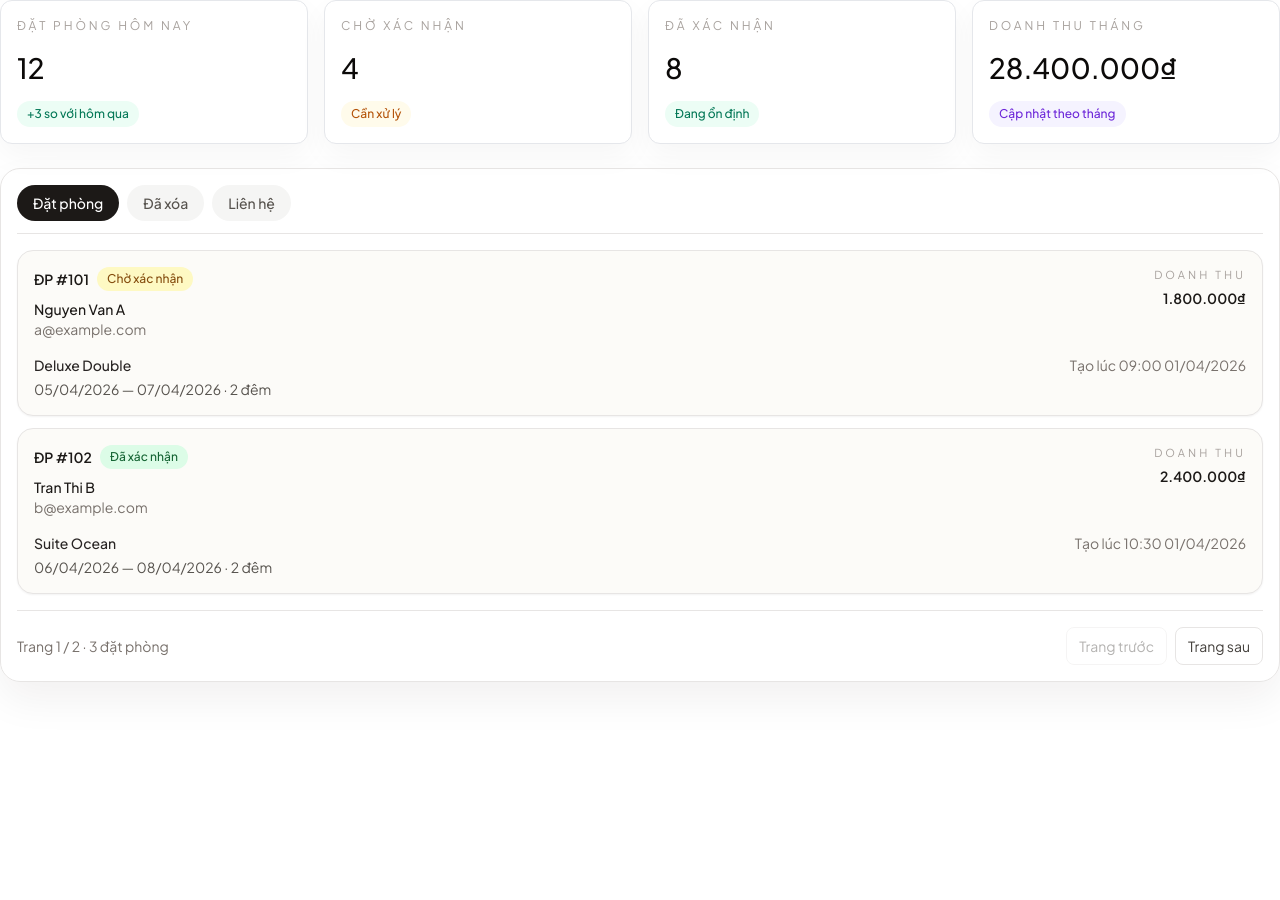
Test: AdminDashboard › supports booking pagination in the recent bookings tab
Expected: the link "ĐP #101" is shown, 34,269 -> 89,289
Click the button "Trang sau" at coordinates (1219, 646), box 1175,627 -> 1263,665
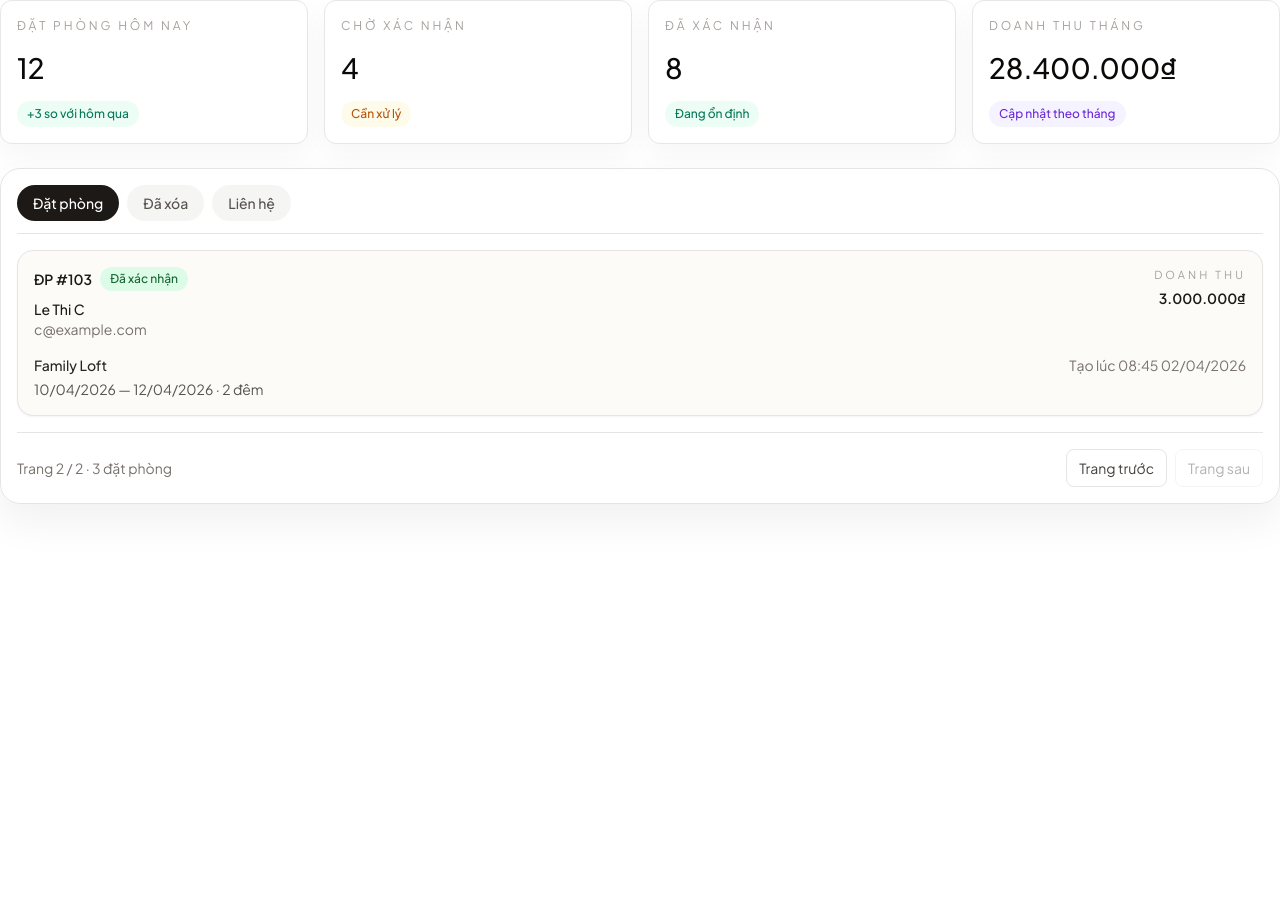
Expected: the link "ĐP #103" is shown, 34,269 -> 92,289
